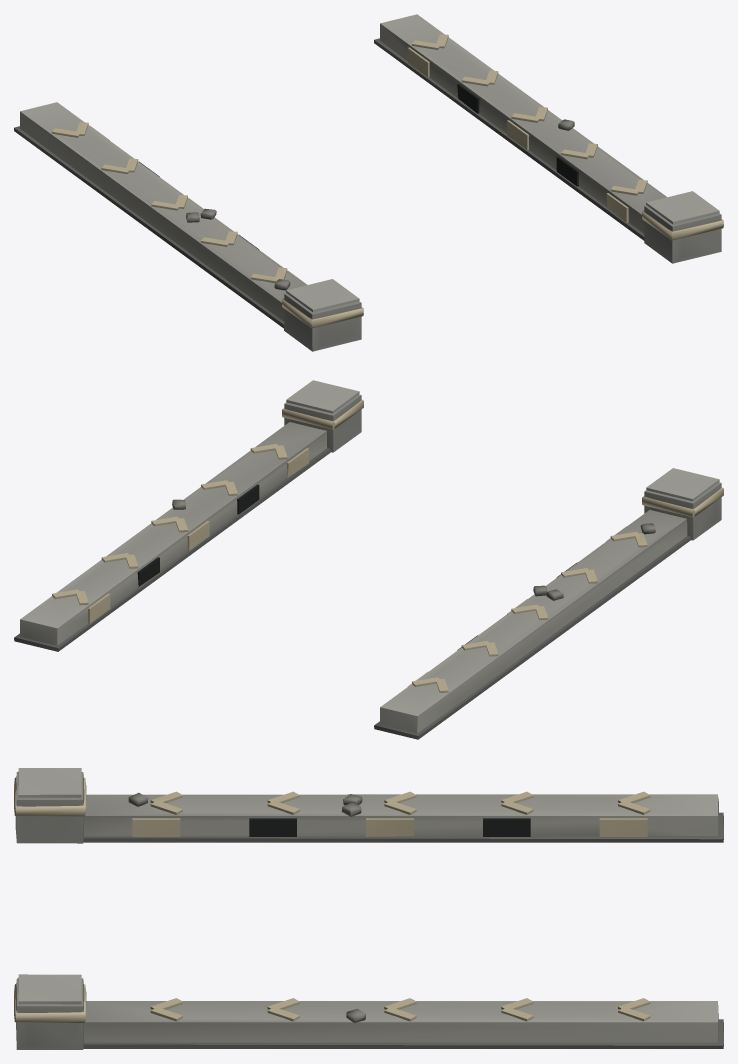
The model's file is takeoff_deck_a_lod1.glb.
The picture shows the model from 3 angles, top to bottom: view 1: azimuth 30°, elevation 25°; view 2: azimuth 150°, elevation 25°; view 3: azimuth 270°, elevation 25°; orthographic projection. The views are drawn at different scales.
Visible parts, largest first — view 1: Surface.001; view 2: Surface.001; view 3: Surface.001.
Boxes of the visible parts, x1,y1,x2,y2 form: Surface.001: (14, 14, 723, 351); Surface.001: (14, 380, 723, 739); Surface.001: (14, 768, 723, 1049).
Bounding box in the file's own units: 10.56 × 1.02 × 13.37.
